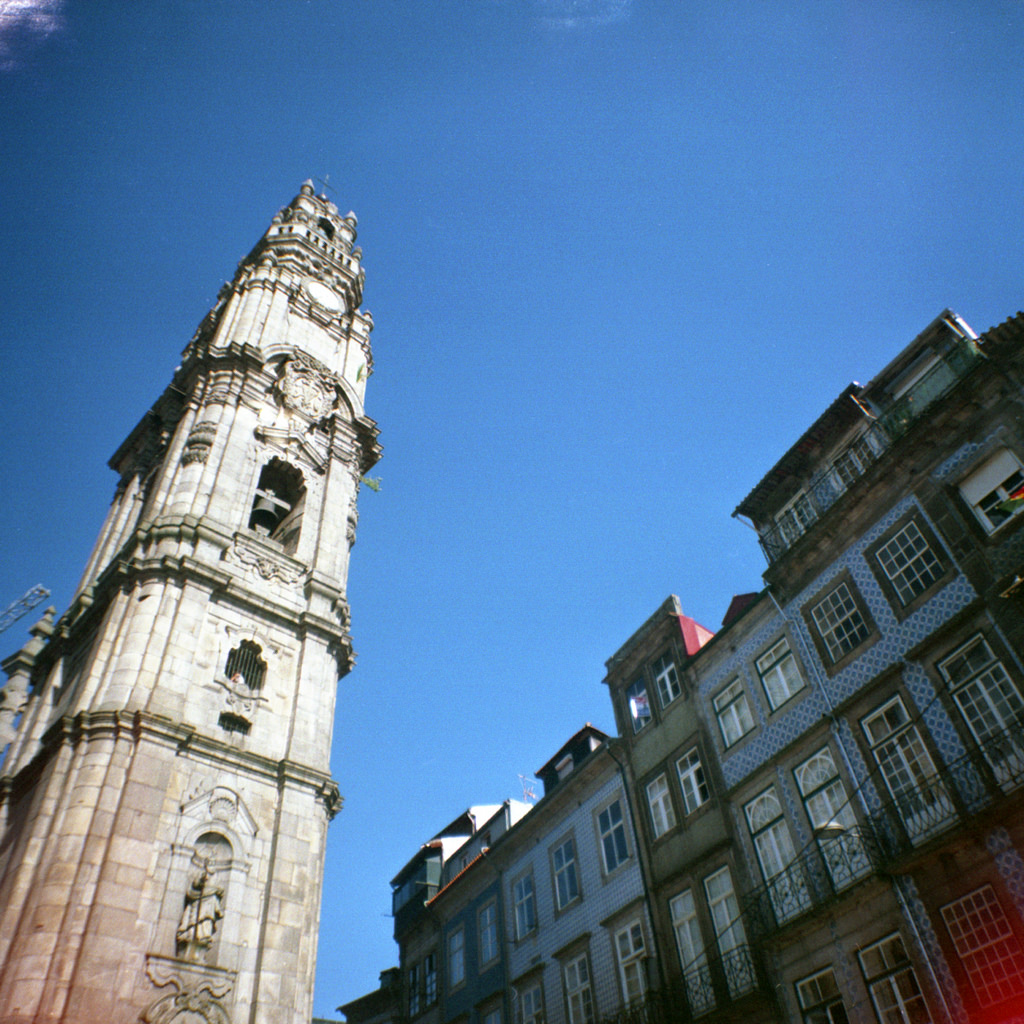clerigos: (0, 168, 385, 1023)
